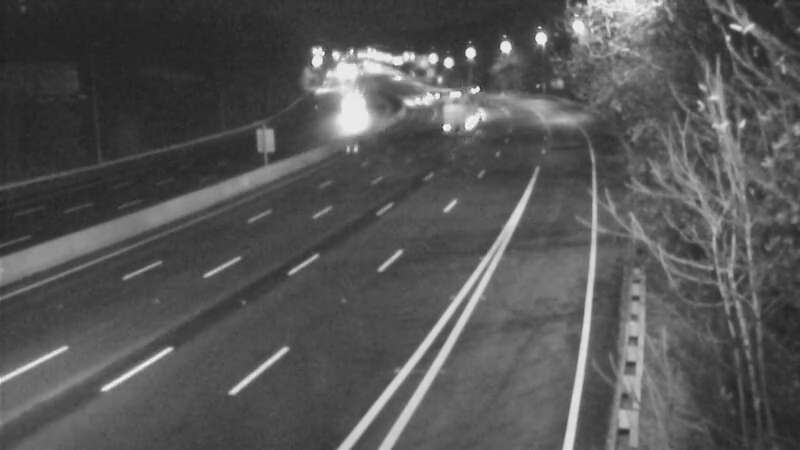vehicle: (369, 51, 419, 101), (413, 69, 463, 119), (419, 101, 469, 151), (325, 76, 375, 126)
